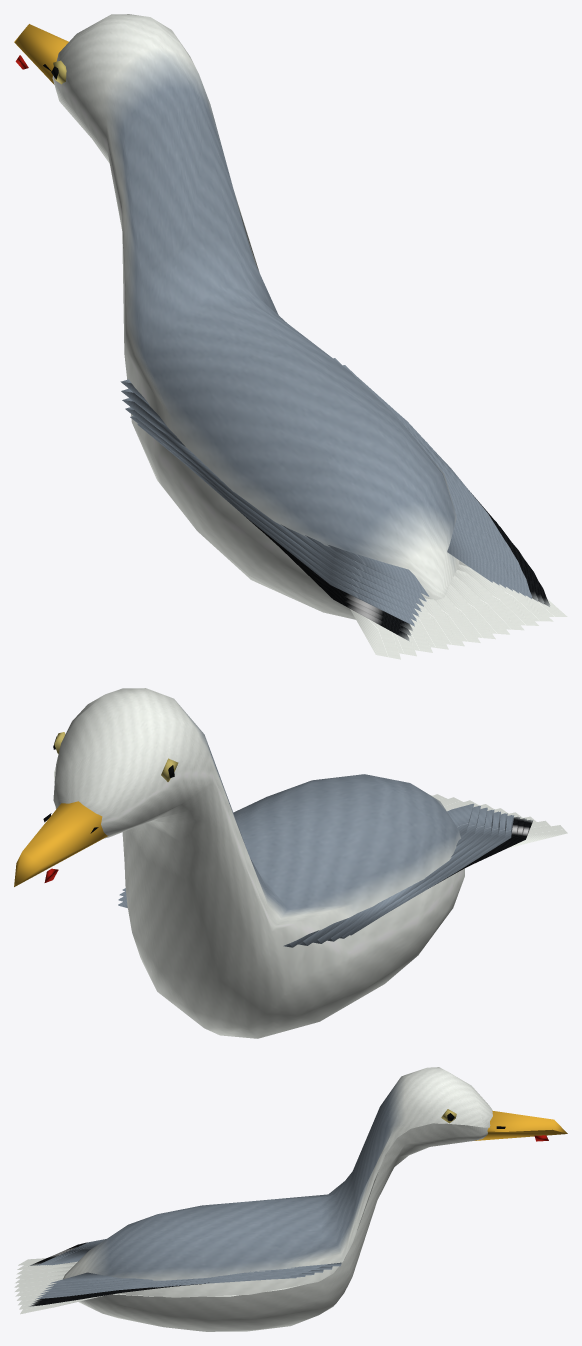
File: herring_gull_rest_far.glb
The picture shows the model from 3 angles, top to bottom: view 1: azimuth 30°, elevation 25°; view 2: azimuth 150°, elevation 25°; view 3: azimuth 270°, elevation 25°; orthographic projection. The views are drawn at different scales.
Parts seen in each view (by area): view 1: CoastalGullMesh.001; view 2: CoastalGullMesh.001; view 3: CoastalGullMesh.001.
Part boxes in pixels (box(x1,y1,x2,y2)): CoastalGullMesh.001: box(14, 14, 567, 659); CoastalGullMesh.001: box(14, 688, 567, 1038); CoastalGullMesh.001: box(14, 1067, 567, 1331).
Size of the model in its own units: 0.1842 by 0.3503 by 0.6933.
1 material, 1 textured.
